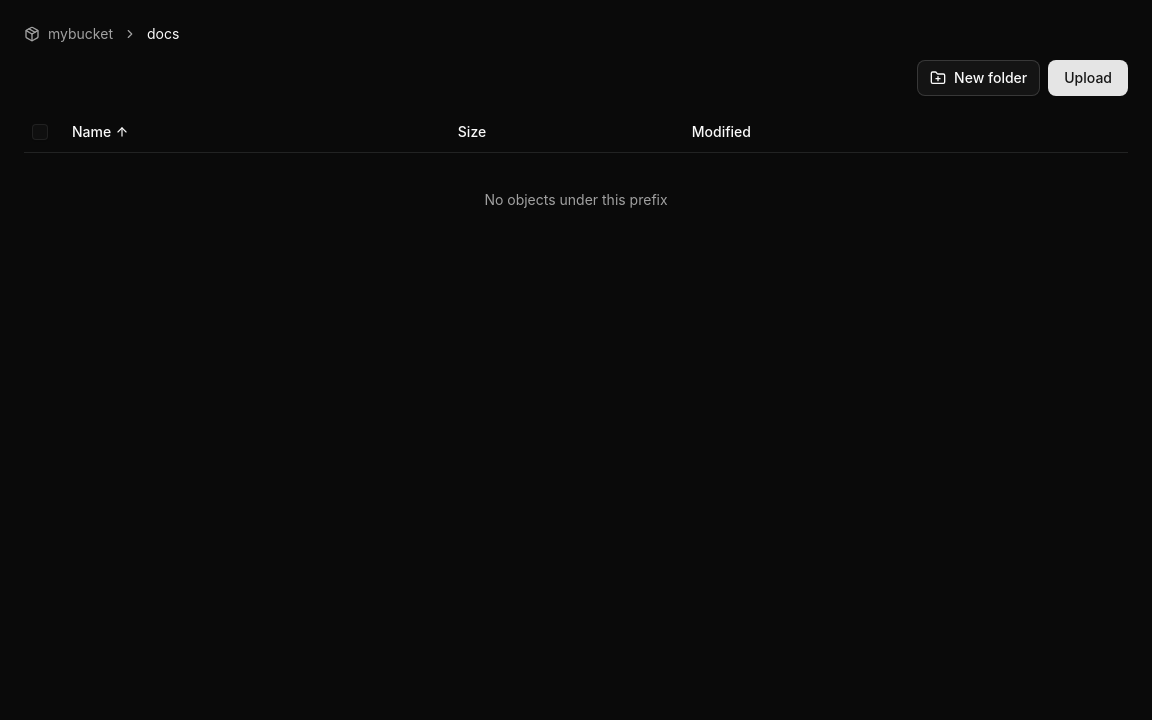
BucketDetailPage › shows New folder and opens the dialog when the page has a non-empty prefix
Click the button "New folder" at (979, 78), box [917,60,1040,96]
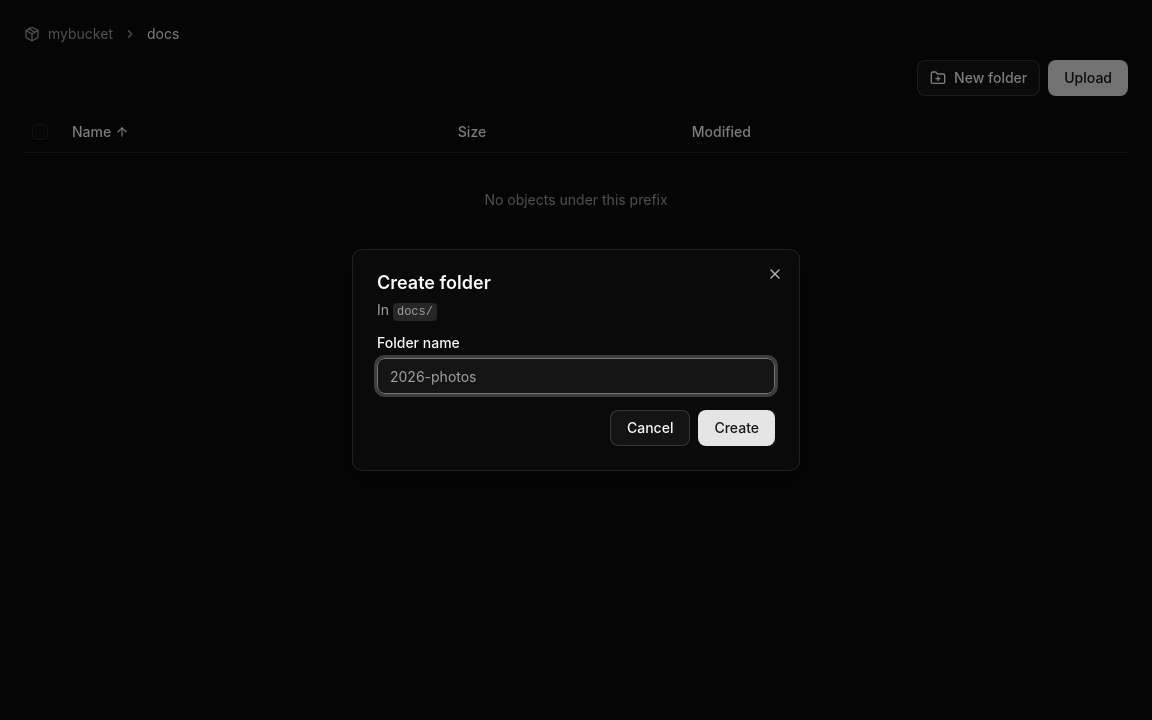
Expected: the dialog "Create folder In docs/ Folder name Cancel Create" is shown, [352,249,800,471]
